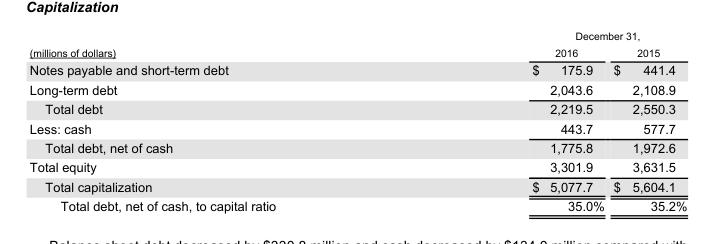table: (28, 29, 686, 212)
table column: (28, 29, 403, 212), (403, 29, 608, 212), (608, 29, 686, 212)
table column header: (28, 29, 686, 60)
table row: (28, 79, 686, 99), (28, 137, 686, 157), (28, 60, 686, 79), (28, 99, 686, 118), (28, 118, 686, 137), (28, 157, 686, 176), (28, 176, 686, 195), (28, 43, 686, 60), (28, 195, 686, 212), (28, 29, 686, 43)
table spanning cell: (28, 29, 403, 60), (403, 29, 686, 43)
